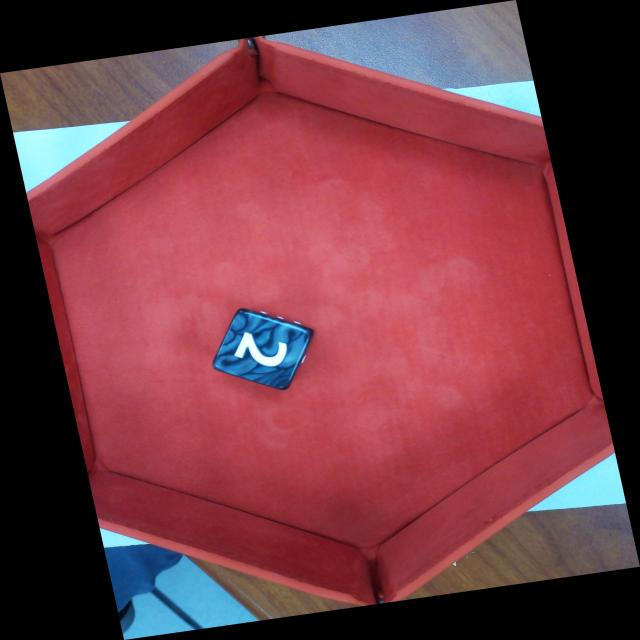dice: (214, 306, 315, 391)
